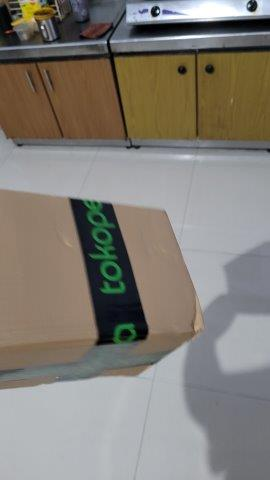kardus: (1, 192, 203, 392)
